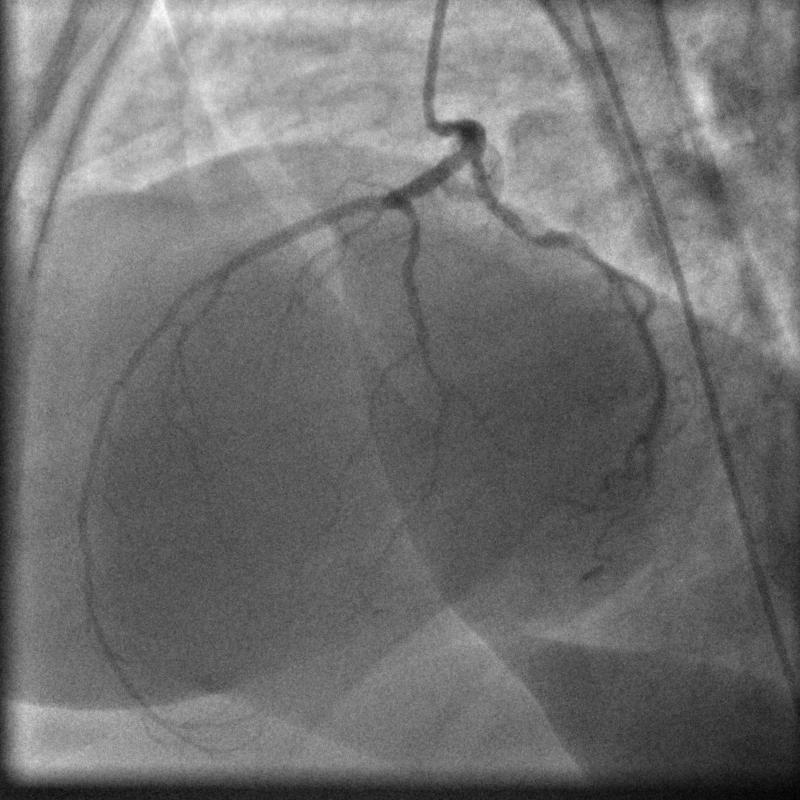Stenosis: (519, 208, 558, 262)
